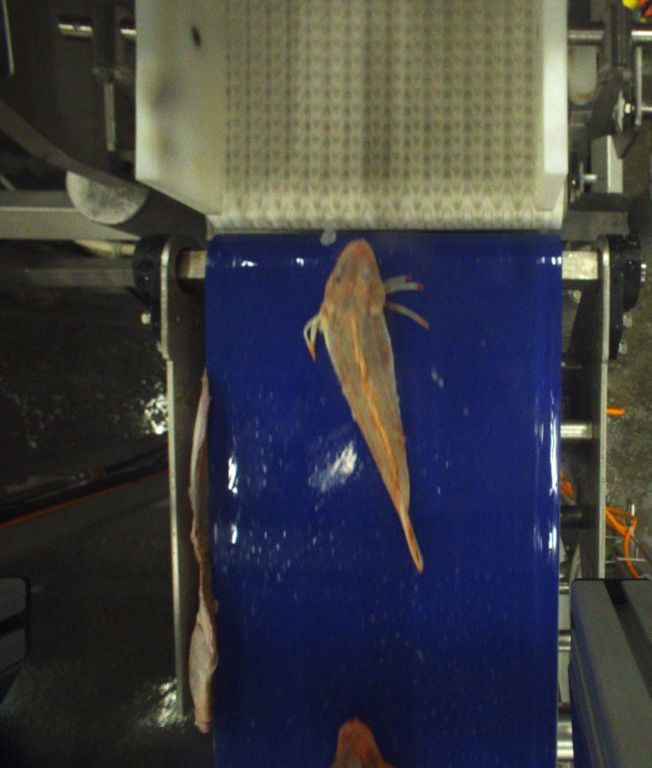GUU: (322, 239, 428, 575)
